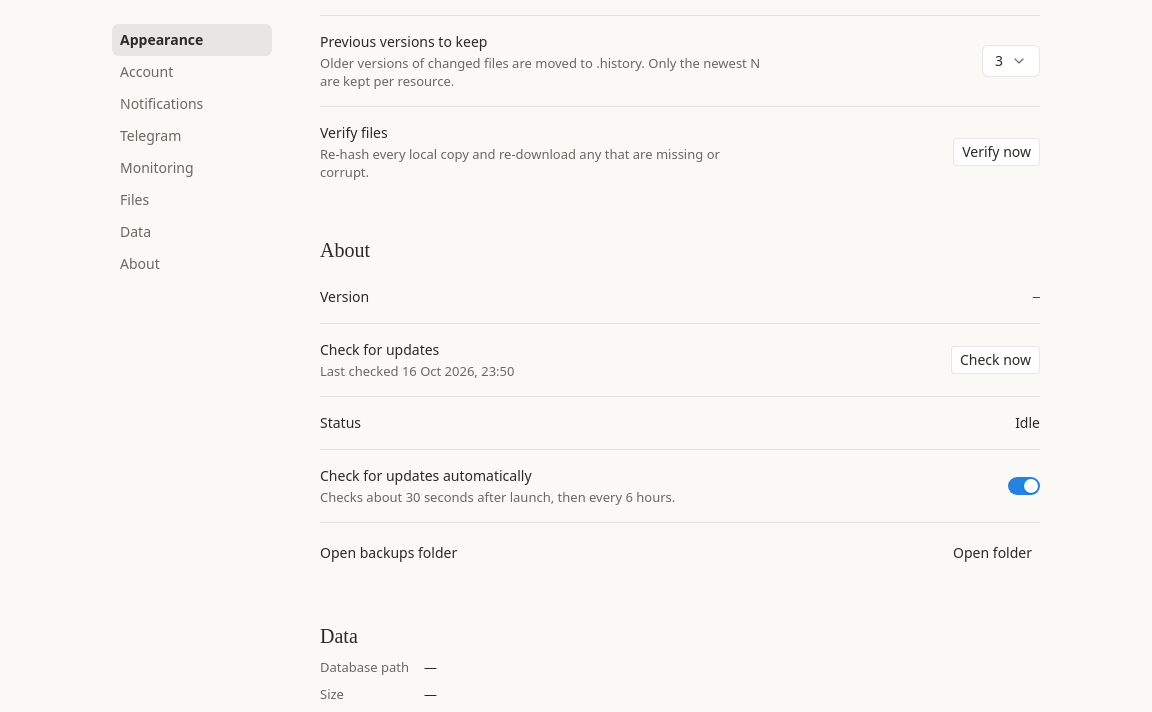
Test: Settings > About states › shows the available version and release notes/restart when one exists
(page scrolled)
Click the button "Check now": coordinates (995, 360) [951,346,1040,374]
(page scrolled)
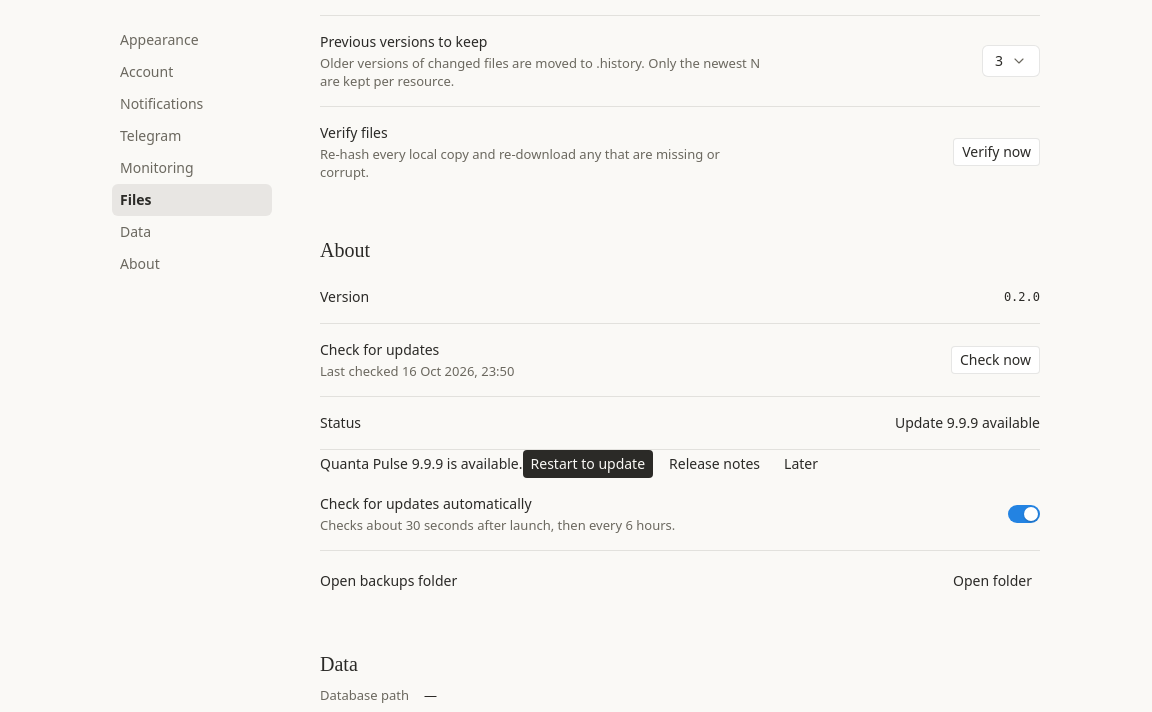
expect the text "Update 9.9.9 available" is shown: met, box [895,413,1040,433]
expect the text "Restart to update" is shown: met, box [530,454,645,474]
